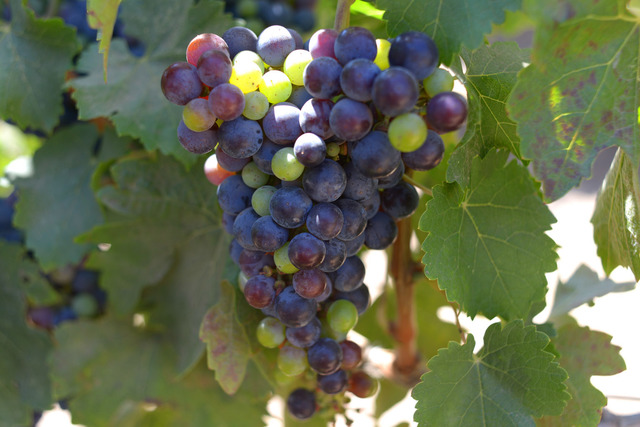Black grapes: (168, 24, 459, 425)
